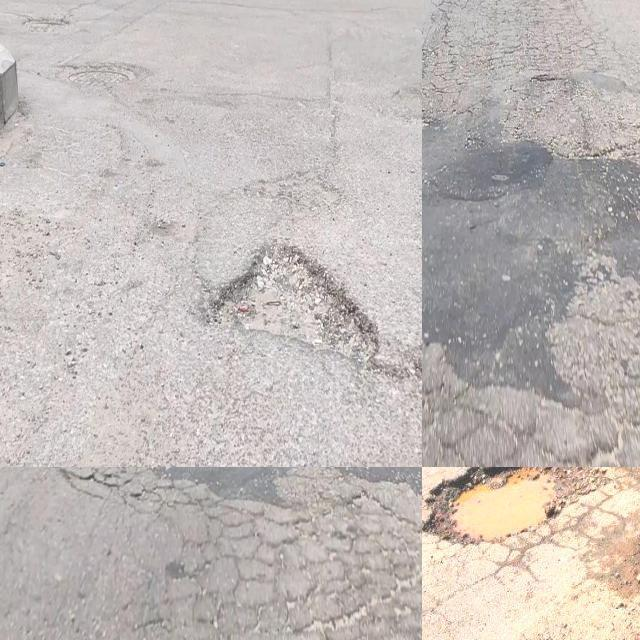Pothole: (212, 236, 382, 376), (424, 467, 606, 546)
